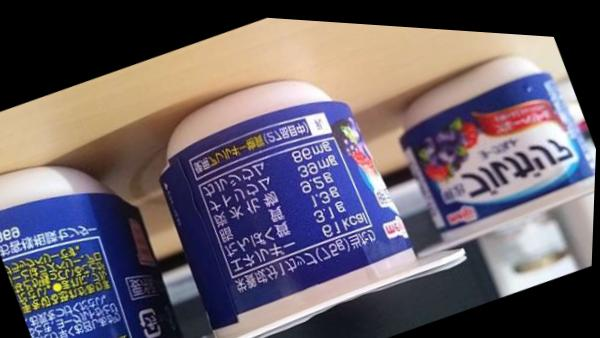plastic: (114, 20, 463, 337), (358, 30, 595, 246), (0, 166, 180, 337)
